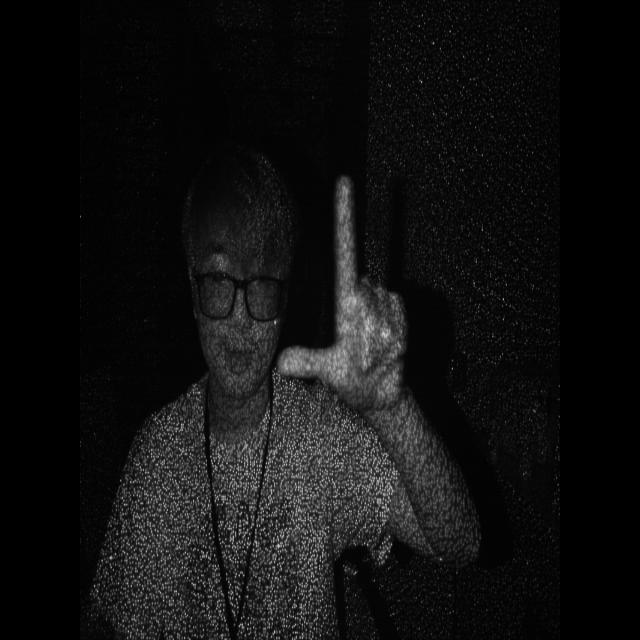L: (270, 160, 416, 424)
